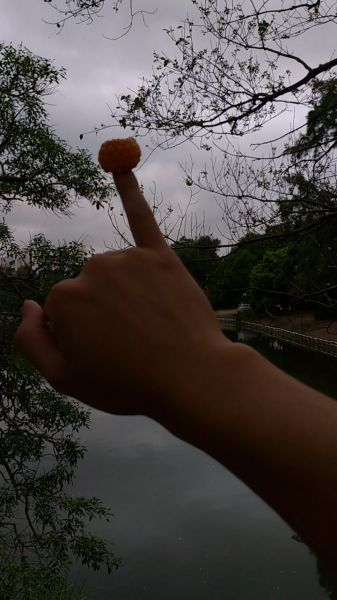eggs: (97, 138, 143, 172)
